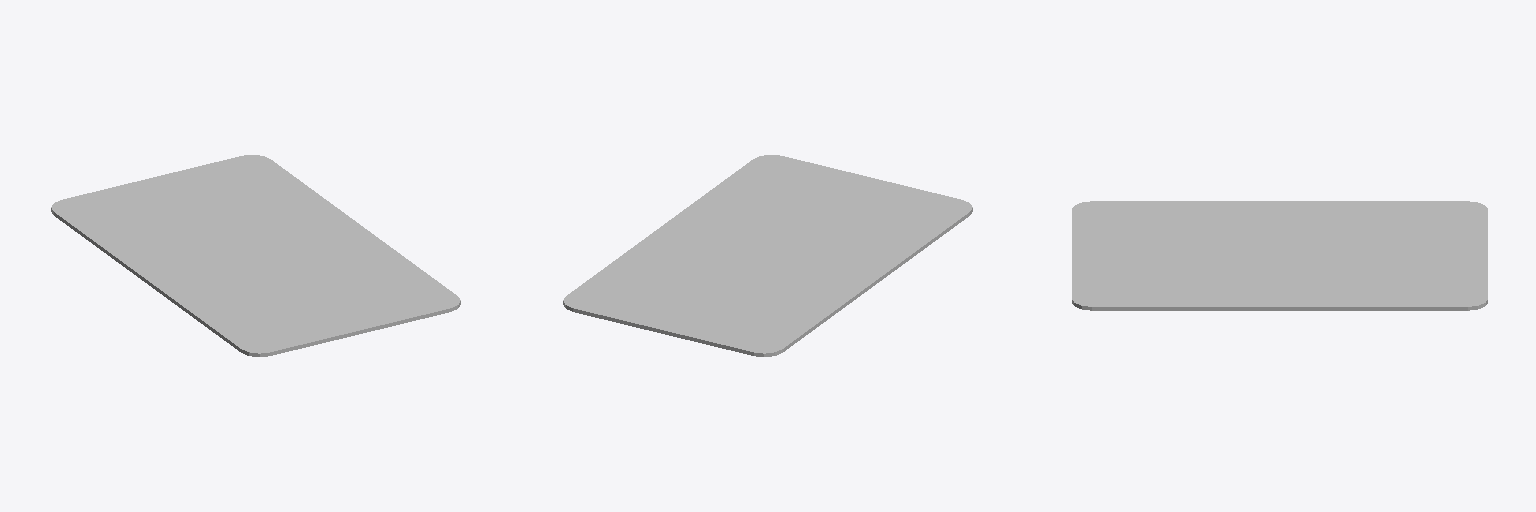
The model's file is keycard.obj.
3 views of the same model, side by side, from view 1: azimuth 30°, elevation 25°; view 2: azimuth 150°, elevation 25°; view 3: azimuth 270°, elevation 25° (orthographic).
Parts seen in each view (by area): view 1: Cube; view 2: Cube; view 3: Cube.
Boxes of the visible parts, <box> form: Cube: <box>51,155,460,356</box>; Cube: <box>563,155,972,356</box>; Cube: <box>1072,201,1487,310</box>.
Size of the model in its own units: 0.06 by 0.001 by 0.1.